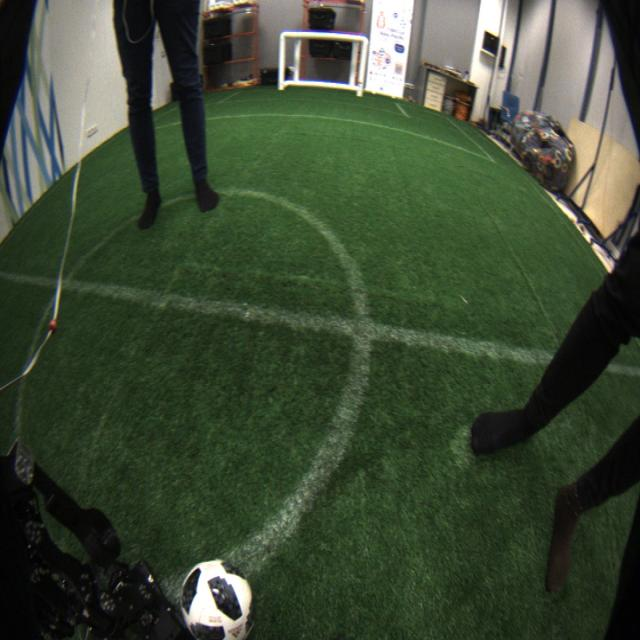ball: (182, 557, 255, 640)
goalpost: (356, 36, 369, 96), (276, 32, 289, 89)
